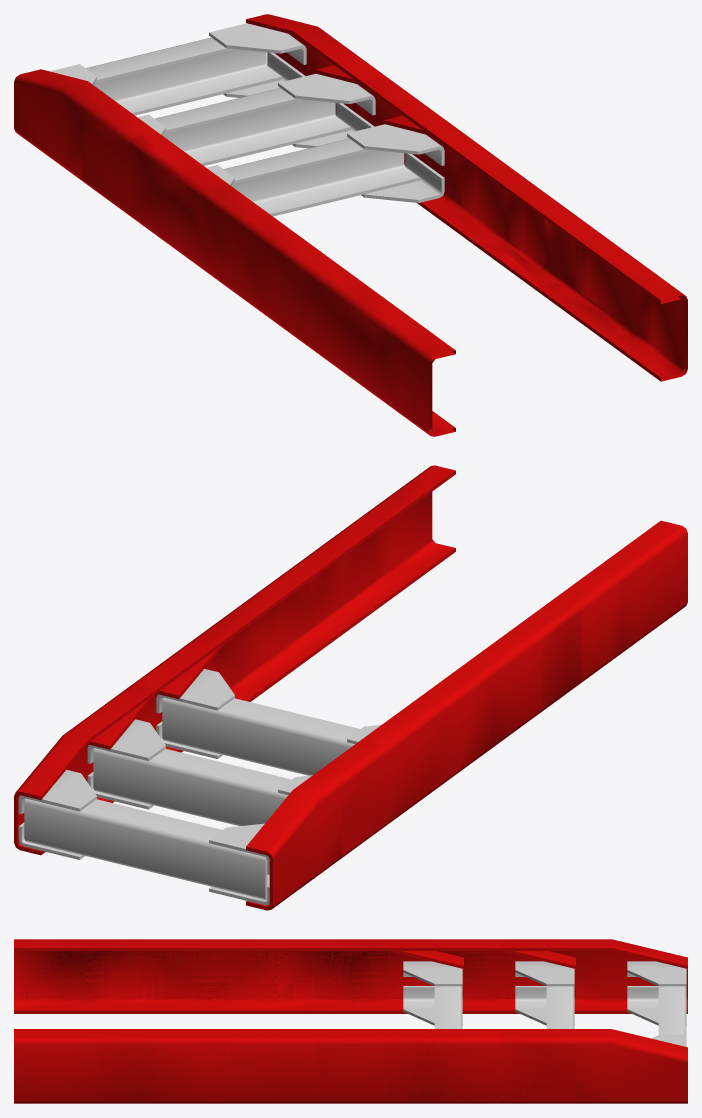
The model's file is G_md_series_frame_end_fifthwheel_alt 2.dae.
The picture shows the model from 3 angles, top to bottom: view 1: azimuth 30°, elevation 25°; view 2: azimuth 150°, elevation 25°; view 3: azimuth 270°, elevation 25°; orthographic projection. The views are drawn at different scales.
Visible parts, largest first — view 1: G_md_series_frame_end_fifthwheel_altb, G_md_series_frame_end_fifthwheel_altc, G_md_series_frame_end_fifthwheel_alt; view 2: G_md_series_frame_end_fifthwheel_altb, G_md_series_frame_end_fifthwheel_altc, G_md_series_frame_end_fifthwheel_alt; view 3: G_md_series_frame_end_fifthwheel_altb, G_md_series_frame_end_fifthwheel_altc, G_md_series_frame_end_fifthwheel_alt.
Part boxes in pixels (left/top/right/bottom): G_md_series_frame_end_fifthwheel_altb: left=83, top=65, right=687, bottom=436; G_md_series_frame_end_fifthwheel_altc: left=14, top=14, right=686, bottom=436; G_md_series_frame_end_fifthwheel_alt: left=152, top=115, right=687, bottom=435; G_md_series_frame_end_fifthwheel_altb: left=86, top=465, right=687, bottom=858; G_md_series_frame_end_fifthwheel_altc: left=14, top=466, right=687, bottom=910; G_md_series_frame_end_fifthwheel_alt: left=155, top=465, right=687, bottom=808; G_md_series_frame_end_fifthwheel_altb: left=14, top=939, right=575, bottom=1103; G_md_series_frame_end_fifthwheel_altc: left=14, top=939, right=687, bottom=1103; G_md_series_frame_end_fifthwheel_alt: left=14, top=939, right=463, bottom=1103.
Bounding box in the file's own units: 0.868 × 2.41 × 0.26.
